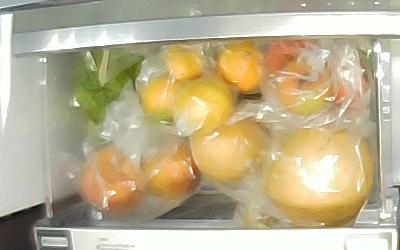peach_vinyl: (80, 144, 145, 212), (141, 140, 201, 199)
pear_vinyl: (266, 128, 373, 226), (188, 118, 266, 182)
tangerine_vinyl: (174, 71, 235, 134), (216, 40, 264, 91), (140, 75, 182, 120), (163, 43, 204, 79)
tomato_vinyl: (275, 61, 331, 115), (266, 40, 313, 75), (333, 72, 369, 111)
